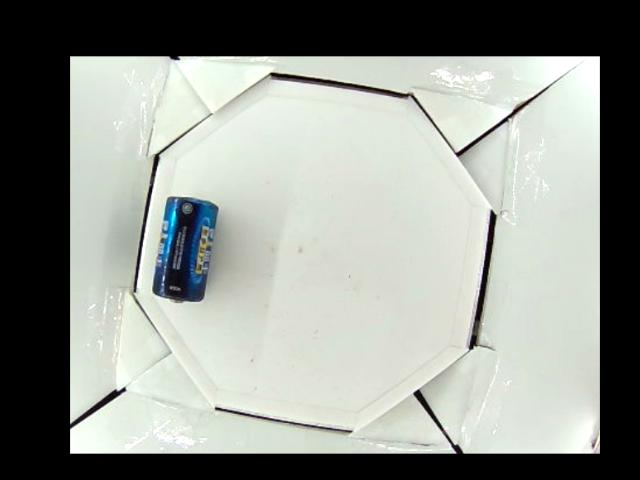Battery: (151, 196, 219, 304)
